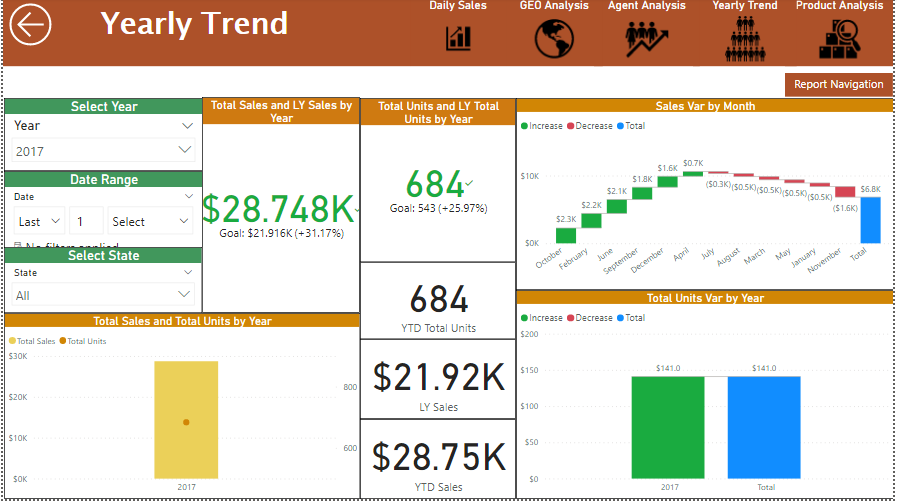

What the dashboard file says about the page in this screenshot:
{"tool":"powerbi","page":{"name":"Yearly Trend","canvas":[1280,720],"ordinal":4},"visuals":[{"type":"lineStackedColumnComboChart","fields":{"Category":["DimDate.Year Hierarchy.Year","DimDate.Year Hierarchy.Month","DimDate.Year Hierarchy.Day"],"Y":["FactSales.Total Sales"],"Y2":["FactSales.Total Units"]},"box":[281.7,455.6,455.6,264.4],"z":0},{"type":"waterfallChart","fields":{"Y":["FactSales.Sales Var"],"Category":["DimDate.Year Hierarchy.Year","DimDate.Year Hierarchy.Month","DimDate.Year Hierarchy.Day"]},"box":[737.2,284.6,543.2,171],"z":1000},{"type":"waterfallChart","title":"Units Var by Year","fields":{"Y":["FactSales.Total Units Var"],"Category":["DimDate.Year"]},"box":[737.2,455.6,543.2,264.4],"z":2000},{"type":"slicer","title":"Date Range","fields":{"Values":["DimDate.Date"]},"box":[1.4,284.6,286,94.9],"z":3000},{"type":"actionButton","title":"Product Analysis","box":[1123.8,0,156.6,76.2],"z":4000},{"type":"actionButton","title":"Yearly Trend","box":[974.4,0,161,76.2],"z":5000},{"type":"actionButton","title":"Agent Analysis","box":[817.7,0,162.4,76.2],"z":6000},{"type":"actionButton","title":"GEO Analysis","box":[688.4,0,139.4,76.2],"z":7000},{"type":"actionButton","title":"Daily Sales","box":[521.7,0,166.7,76.2],"z":8000},{"type":"textbox","box":[0,0,550.4,76.2],"z":9000},{"type":"actionButton","box":[1.4,0,89.1,76.2],"z":10000},{"type":"card","fields":{"Values":["FactSales.YTD Sales"]},"box":[0,626.6,286,93.4],"z":11000},{"type":"card","fields":{"Values":["FactSales.YTD Total Units"]},"box":[0,544.7,286,81.9],"z":12000},{"type":"card","fields":{"Values":["FactSales.LY Sales"]},"box":[0,465.6,287.4,79],"z":13000},{"type":"kpi","title":"Sales and LY  by Year","fields":{"Goal":["FactSales.LY Sales"],"Indicator":["FactSales.Total Sales"],"TrendLine":["DimDate.Year Hierarchy.Year"]},"box":[521.7,284.6,215.6,171],"z":14000},{"type":"kpi","title":"Units and LY by Year","fields":{"Goal":["FactSales.LY Total Units"],"TrendLine":["DimDate.Year Hierarchy.Year"],"Indicator":["FactSales.Total Units"]},"box":[287.4,284.6,234.3,171],"z":15000},{"type":"slicer","title":"Select State","fields":{"Values":["DimCustomers.State"]},"box":[1.4,379.4,284.6,86.2],"z":16000},{"type":"slicer","title":"Select Year","fields":{"Values":["DimDate.Year"]},"box":[0,184,1280.5,100.6],"z":17000},{"type":"slicer","title":"Select Season","fields":{"Values":["DimDate.Seasons"]},"box":[0,87.7,1280.5,96.3],"z":18000}]}

Visuals, with their boxes in screenshot pixels (x1, y1, x2, y2), scaled from the page's 1280x720 canvas onto the 897x504 screenshot:
lineStackedColumnComboChart - DimDate.Year Hierarchy.Year x DimDate.Year Hierarchy.Month: left=197, top=319, right=517, bottom=503
waterfallChart - FactSales.Sales Var x DimDate.Year Hierarchy.Year: left=517, top=199, right=896, bottom=319
"Units Var by Year" waterfallChart: left=517, top=319, right=896, bottom=503
"Date Range" slicer: left=1, top=199, right=201, bottom=266
"Product Analysis" actionButton: left=788, top=0, right=896, bottom=53
"Yearly Trend" actionButton: left=683, top=0, right=796, bottom=53
"Agent Analysis" actionButton: left=573, top=0, right=687, bottom=53
"GEO Analysis" actionButton: left=482, top=0, right=580, bottom=53
"Daily Sales" actionButton: left=366, top=0, right=482, bottom=53
textbox: left=0, top=0, right=386, bottom=53
actionButton: left=1, top=0, right=63, bottom=53
card - FactSales.YTD Sales: left=0, top=439, right=200, bottom=503
card - FactSales.YTD Total Units: left=0, top=381, right=200, bottom=439
card - FactSales.LY Sales: left=0, top=326, right=201, bottom=381
"Sales and LY  by Year" kpi: left=366, top=199, right=517, bottom=319
"Units and LY by Year" kpi: left=201, top=199, right=366, bottom=319
"Select State" slicer: left=1, top=266, right=200, bottom=326
"Select Year" slicer: left=0, top=129, right=896, bottom=199
"Select Season" slicer: left=0, top=61, right=896, bottom=129
